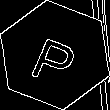P_N: (27, 25, 83, 85)
